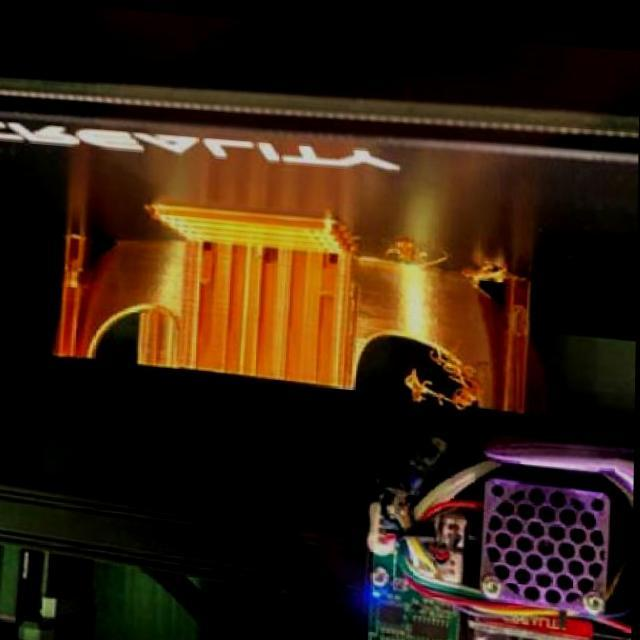spaghetti: (404, 332, 482, 405), (384, 230, 450, 268), (458, 255, 520, 282)
